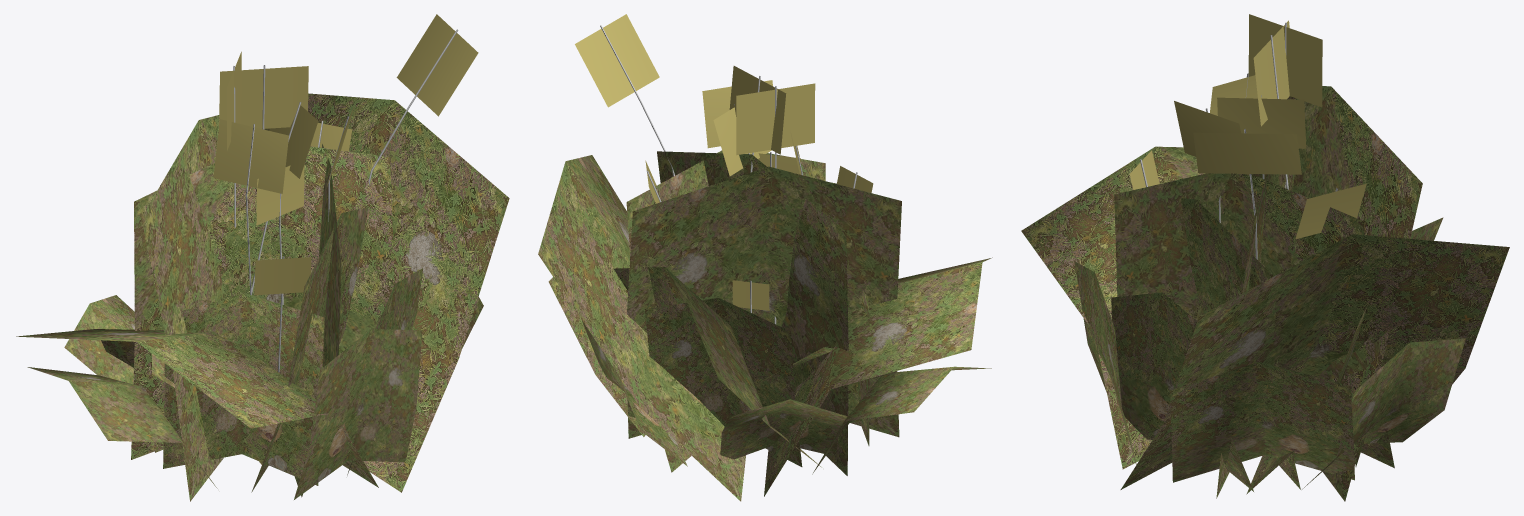
File: SM_GrassTall.fbx
The picture shows the model from 3 angles, left to right: view 1: azimuth 30°, elevation 25°; view 2: azimuth 150°, elevation 25°; view 3: azimuth 270°, elevation 25°; orthographic projection. The views are drawn at different scales.
Parts seen in each view (by area): view 1: SM_GrassTall_LOD0; view 2: SM_GrassTall_LOD0; view 3: SM_GrassTall_LOD0.
Boxes of the visible parts, bbox=[...] form: SM_GrassTall_LOD0: bbox=[16, 14, 509, 501]; SM_GrassTall_LOD0: bbox=[538, 14, 992, 501]; SM_GrassTall_LOD0: bbox=[1021, 14, 1509, 501].
Bounding box in the file's own units: 150 × 132 × 125.
